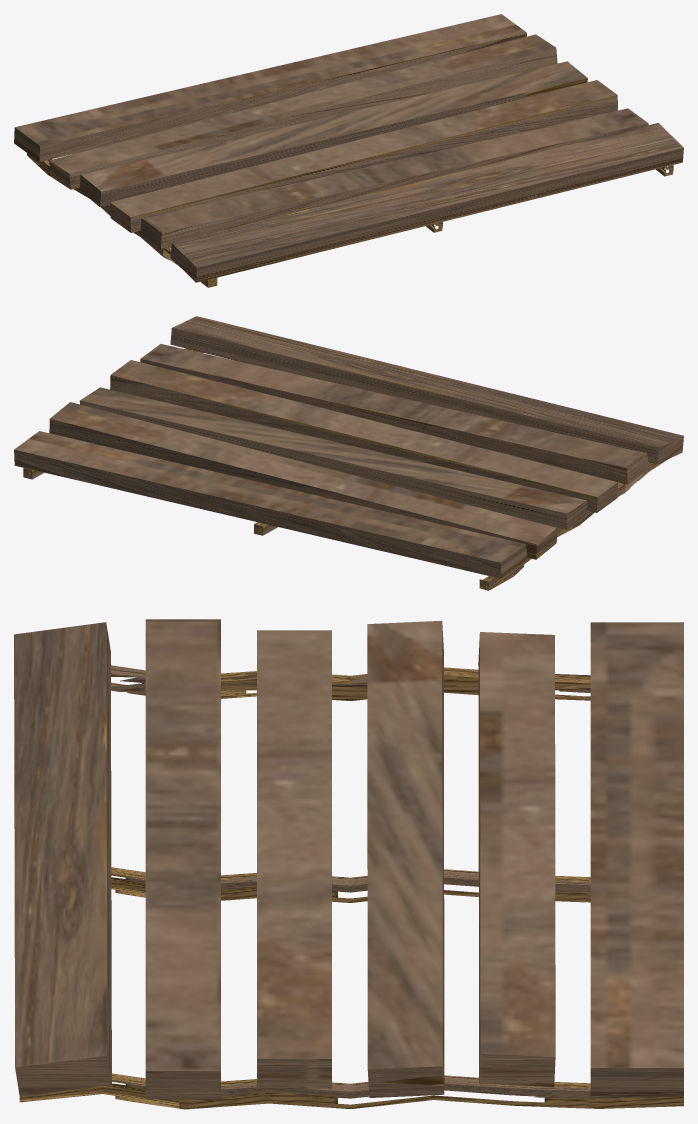
The model's file is Road_Wood.fbx.
3 renders of one model, top to bottom at view 1: azimuth 30°, elevation 25°; view 2: azimuth 150°, elevation 25°; view 3: azimuth 270°, elevation 25°, orthographic. The views are drawn at different scales.
Visible parts, largest first — view 1: Wooden_Tile, Cube.014; view 2: Wooden_Tile, Cube.014; view 3: Wooden_Tile, Cube.013, Cube.014, Cube.019.
Boxes of the visible parts, x1,y1,x2,y2 form: Wooden_Tile: [14, 14, 683, 282]; Cube.014: [27, 153, 217, 287]; Wooden_Tile: [14, 316, 683, 578]; Cube.014: [479, 460, 666, 590]; Wooden_Tile: [14, 619, 683, 1099]; Cube.013: [19, 1073, 683, 1109]; Cube.014: [111, 665, 590, 701]; Cube.019: [111, 867, 590, 902].
Bounding box in the file's own units: 815 × 56.2 × 529.
Materials: 1 (1 with a texture image).
